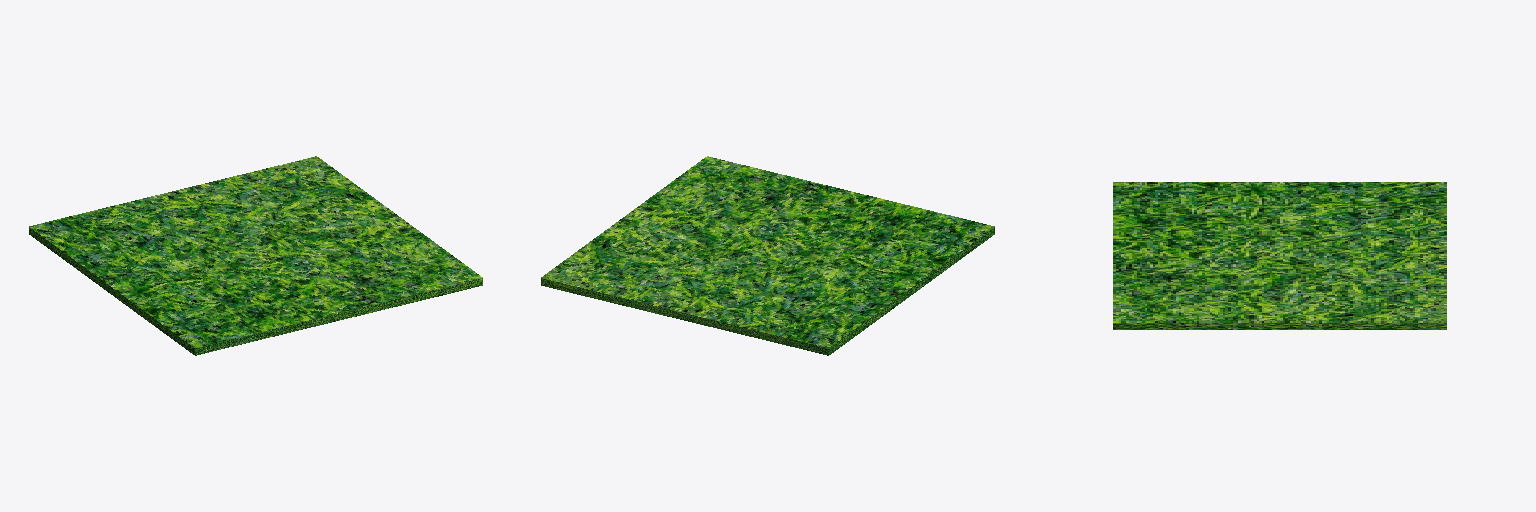
3 renders of one model, left to right at view 1: azimuth 30°, elevation 25°; view 2: azimuth 150°, elevation 25°; view 3: azimuth 270°, elevation 25°, orthographic.
Visible parts, largest first — view 1: Cubo; view 2: Cubo; view 3: Cubo.
Part boxes in pixels (x1,y1,x2,y2): Cubo: (29,156,482,355); Cubo: (541,156,994,355); Cubo: (1113,182,1446,329).
Size of the model in its own units: 20 by 0.5 by 20.
Materials: 1 (1 with a texture image).